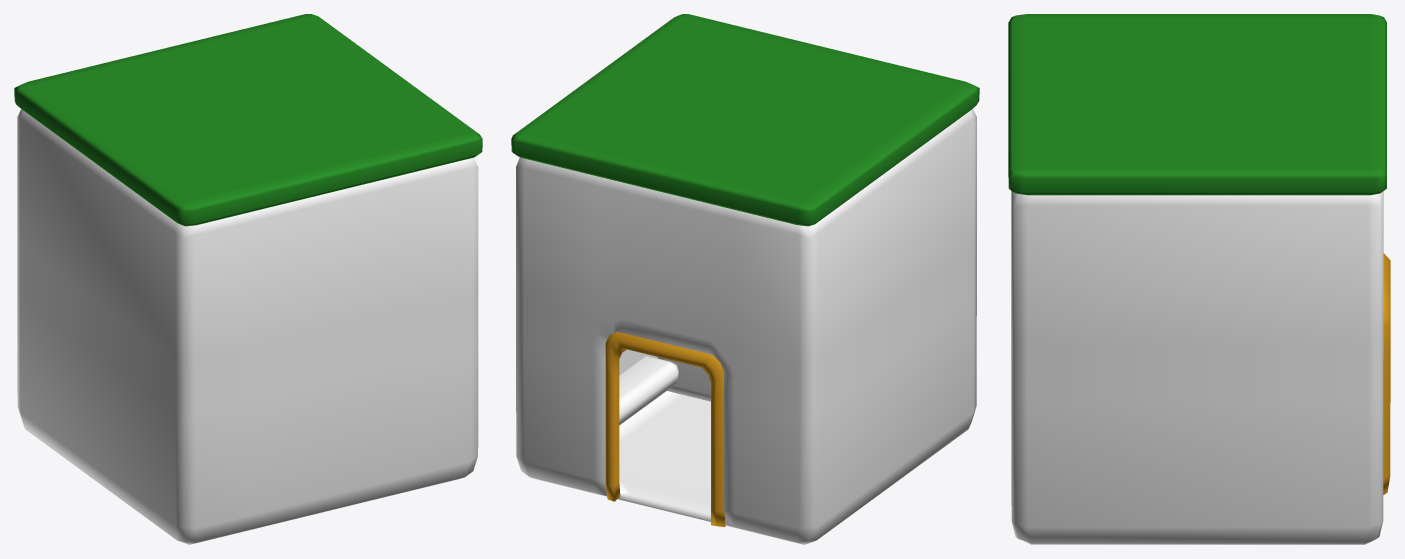
Rendered from HouseNormalGreek.fbx.
3 renders of one model, left to right at view 1: azimuth 30°, elevation 25°; view 2: azimuth 150°, elevation 25°; view 3: azimuth 270°, elevation 25°, orthographic. The views are drawn at different scales.
Visible parts, largest first — view 1: HouseNormal2, polySurface5; view 2: HouseNormal2, polySurface5, polySurface4, polySurface2; view 3: HouseNormal2, polySurface5, polySurface4.
Boxes of the visible parts, x1=… form: HouseNormal2: x1=17, y1=109, x2=478, y2=544; polySurface5: x1=14, y1=14, x2=482, y2=226; HouseNormal2: x1=516, y1=109, x2=976, y2=544; polySurface5: x1=511, y1=14, x2=979, y2=226; polySurface4: x1=605, y1=331, x2=725, y2=527; polySurface2: x1=619, y1=356, x2=710, y2=425; HouseNormal2: x1=1011, y1=191, x2=1383, y2=544; polySurface5: x1=1008, y1=14, x2=1386, y2=195; polySurface4: x1=1383, y1=253, x2=1390, y2=494.
Size of the model in its own units: 2.17 by 2.37 by 2.16.
Materials: 1 (1 with a texture image).
